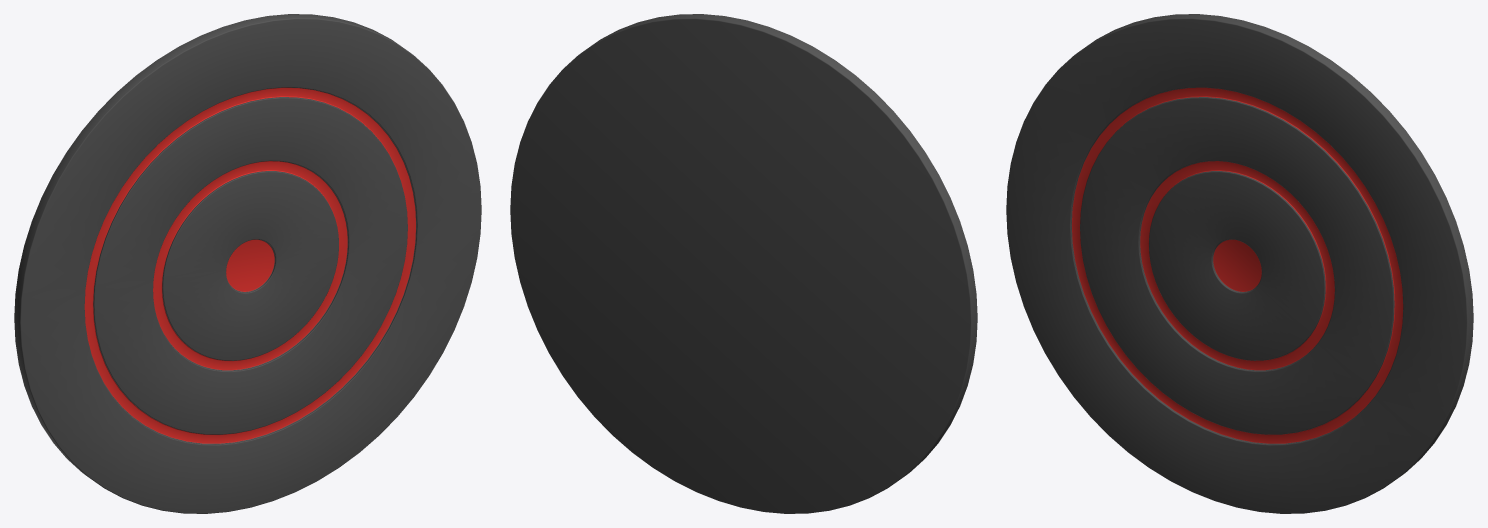
The model's file is Target.fbx.
The picture shows the model from 3 angles, left to right: view 1: azimuth 30°, elevation 25°; view 2: azimuth 150°, elevation 25°; view 3: azimuth 330°, elevation 25°; orthographic projection.
Visible parts, largest first — view 1: Circle; view 2: Circle; view 3: Circle.
Part boxes in pixels (x1,y1,x2,y2): Circle: (14, 14, 481, 513); Circle: (510, 14, 977, 513); Circle: (1006, 14, 1473, 513).
Bounding box in the file's own units: 1 × 0.0244 × 1.
